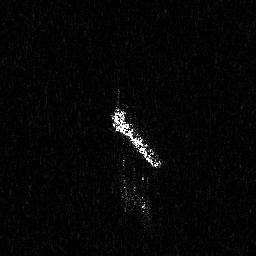ship: (108, 103, 166, 173)
